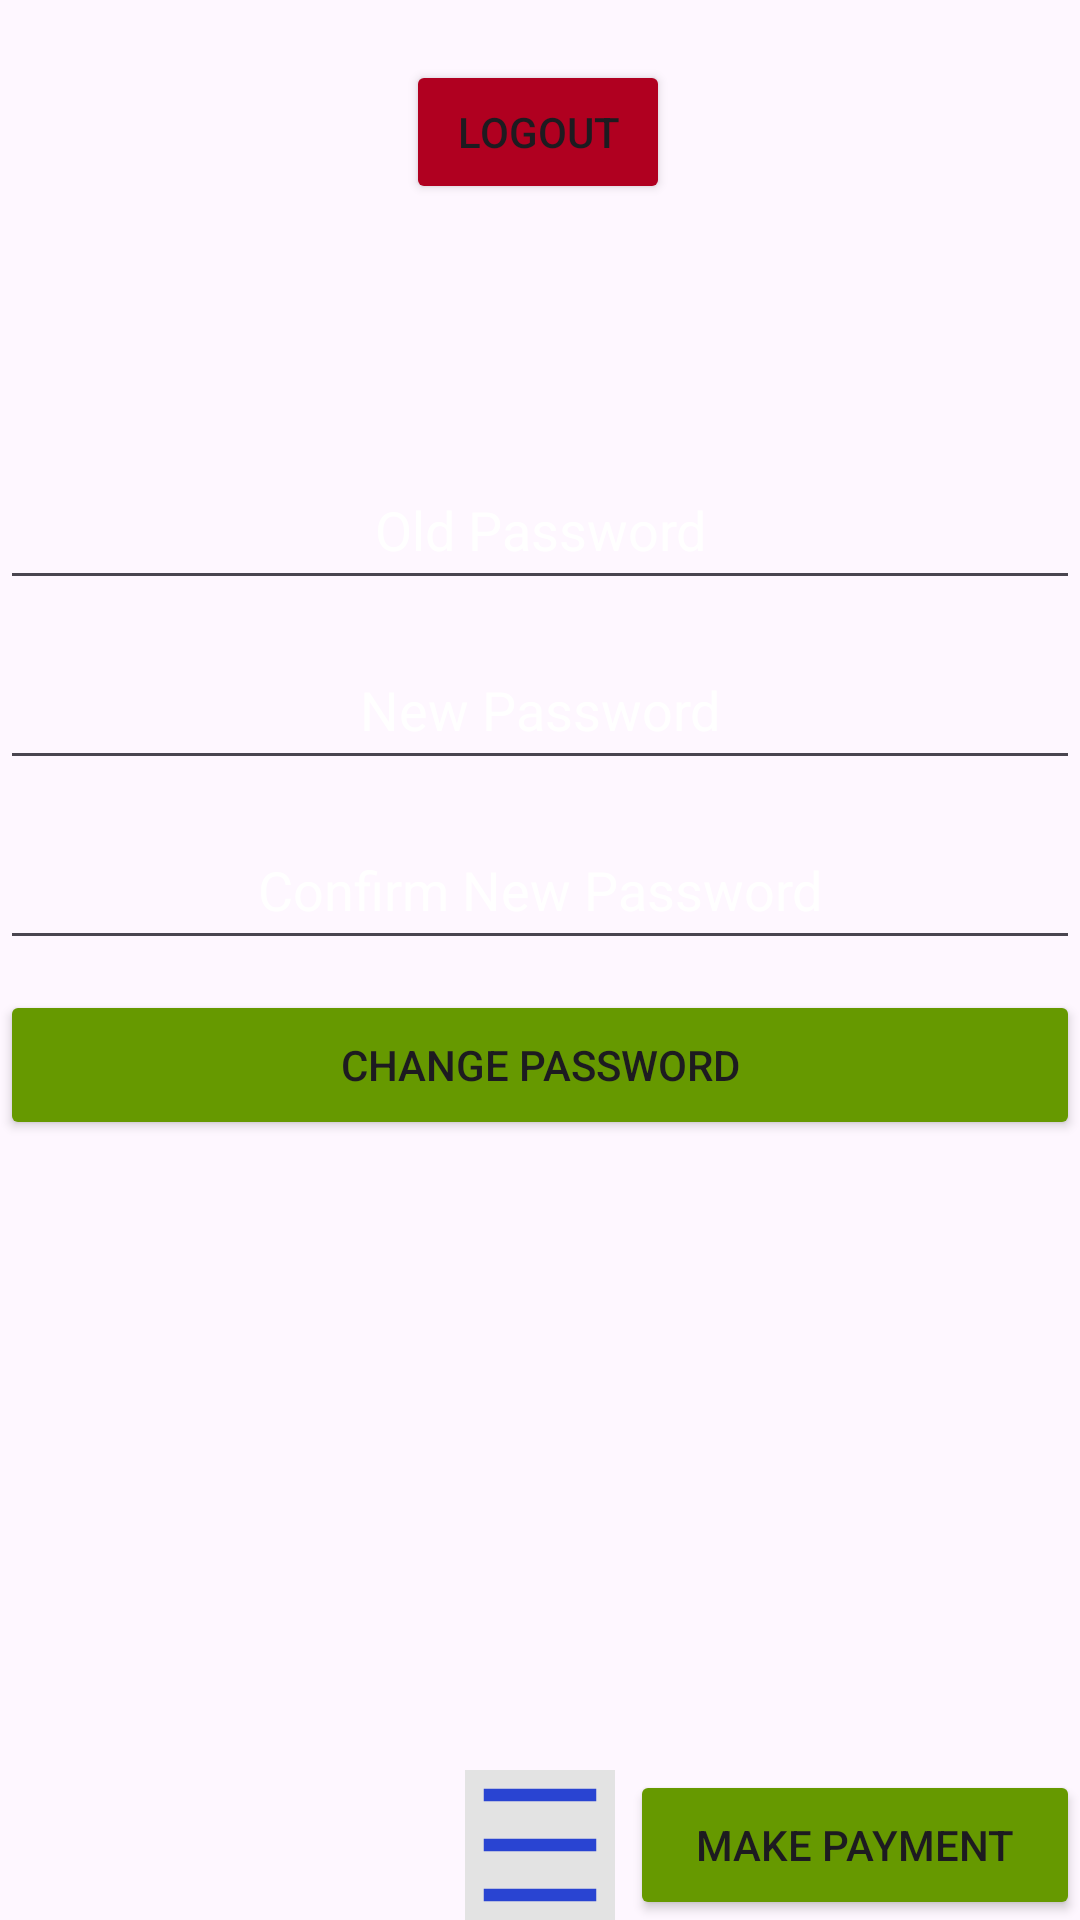

Icon click points for this 1080×1920 phone screenshot, format (x=x, y=y):
menu: (x=540, y=1845)
